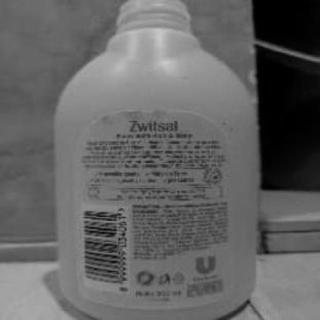objects: (53, 0, 257, 320)
